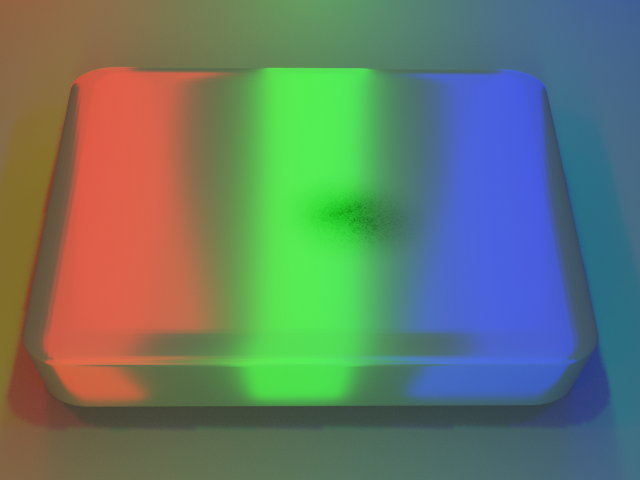stain: (238, 153, 463, 283)
